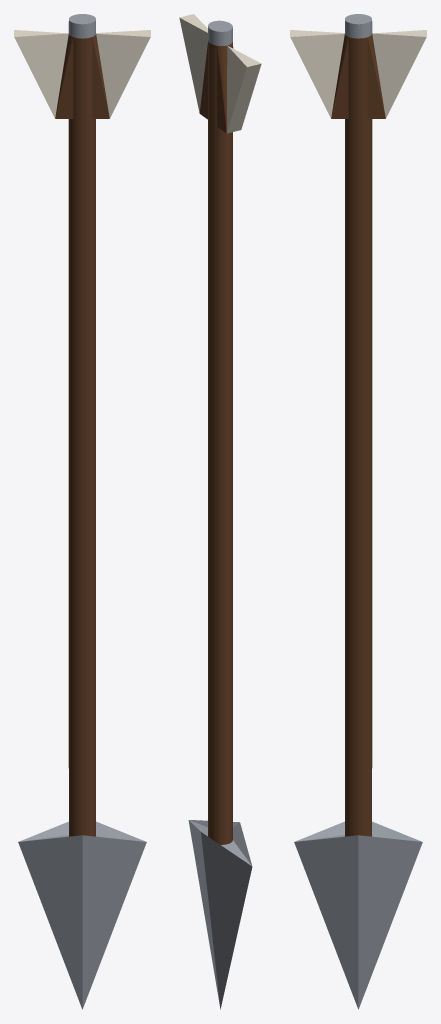
File: Arrow_Particle.obj
3 renders of one model, left to right at view 1: azimuth 90°, elevation 25°; view 2: azimuth 210°, elevation 25°; view 3: azimuth 270°, elevation 25°, orthographic.
Parts seen in each view (by area): view 1: Arrow_Particle; view 2: Arrow_Particle; view 3: Arrow_Particle.
Boxes of the visible parts, x1,y1,x2,y2 form: Arrow_Particle: (14, 14, 150, 1009); Arrow_Particle: (179, 14, 261, 1009); Arrow_Particle: (290, 14, 426, 1009).
Size of the model in its own units: 0.04 by 0.96 by 0.12.
Materials: 1 (1 with a texture image).
